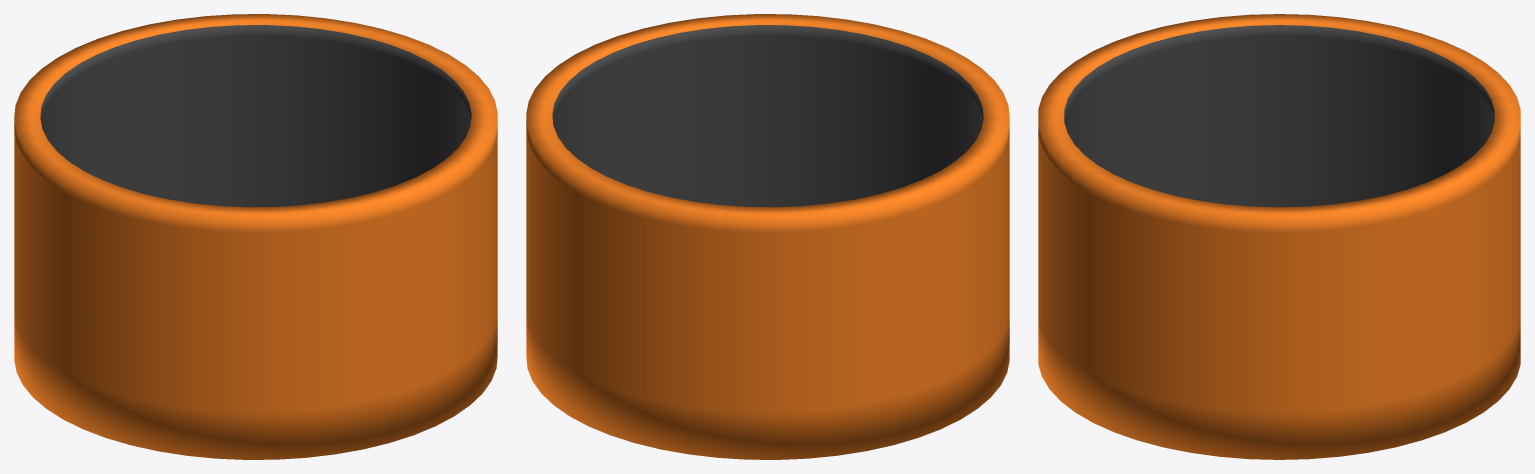
Rendered from Pot_2.fbx.
3 views of the same model, side by side, from view 1: azimuth 30°, elevation 25°; view 2: azimuth 150°, elevation 25°; view 3: azimuth 270°, elevation 25° (orthographic).
Parts seen in each view (by area): view 1: pot_2; view 2: pot_2; view 3: pot_2.
Part boxes in pixels (x1,y1,x2,y2): pot_2: [14, 14, 497, 459]; pot_2: [526, 14, 1009, 459]; pot_2: [1038, 14, 1520, 459].
Bounding box in the file's own units: 35.05 × 19.33 × 34.98.
